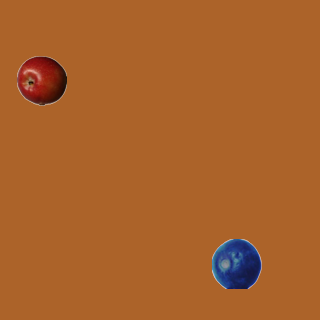Apple Braeburn: (16, 55, 66, 105)
Huckleberry: (211, 238, 261, 288)
